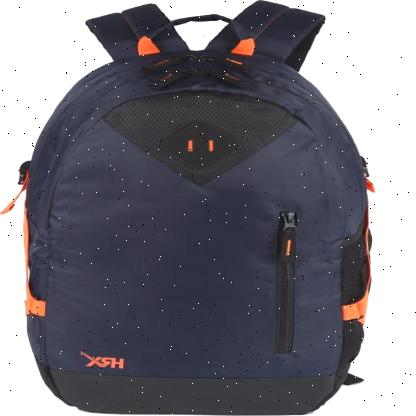bag: (16, 0, 382, 415)
